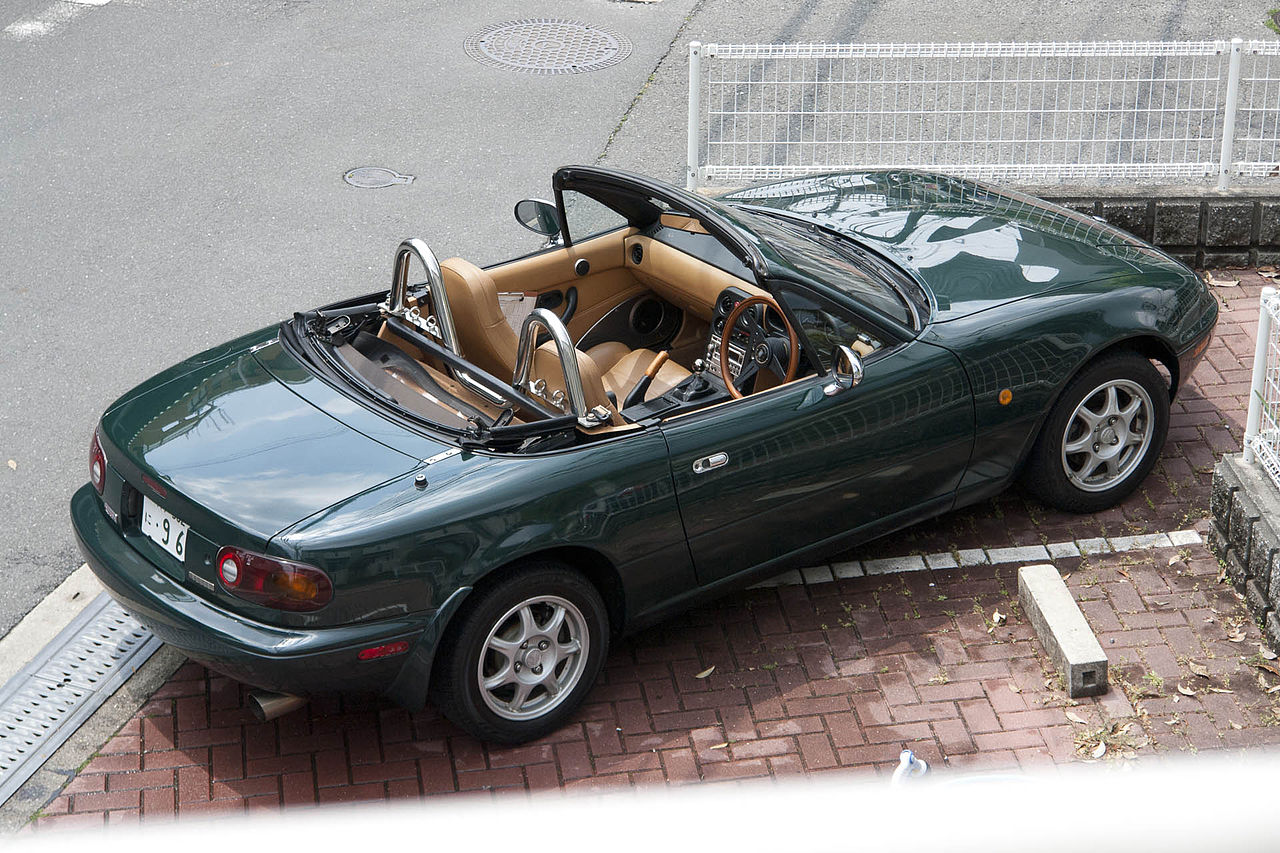plate: (140, 494, 190, 564)
